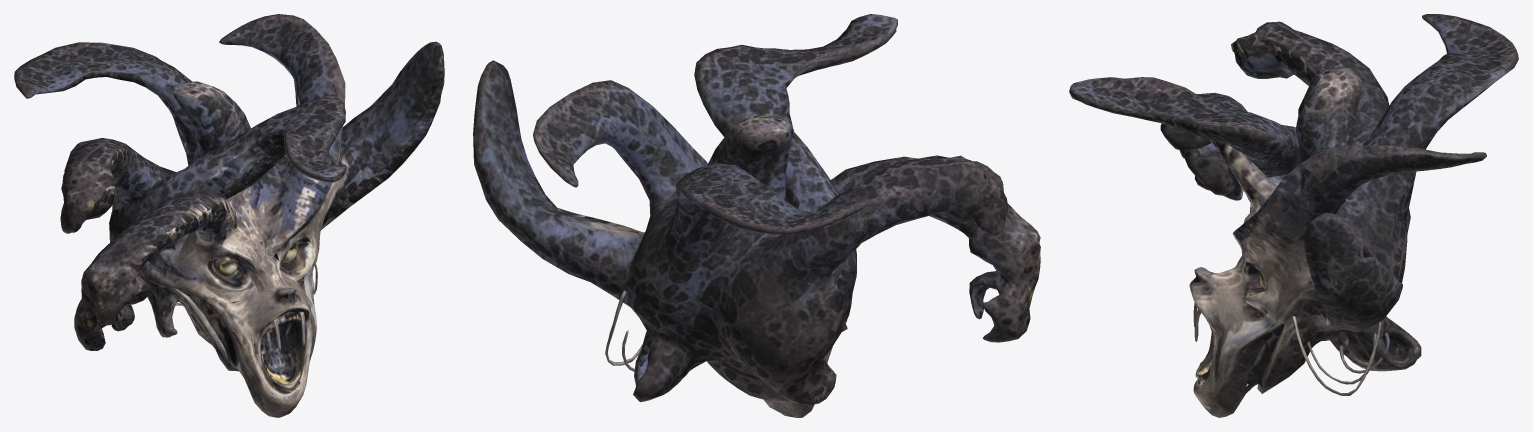
The model's file is medusa.glb.
The picture shows the model from 3 angles, left to right: view 1: azimuth 30°, elevation 25°; view 2: azimuth 150°, elevation 25°; view 3: azimuth 270°, elevation 25°; orthographic projection. The views are drawn at different scales.
Size of the model in its own units: 1 by 0.7135 by 0.8796.
1 material, 1 textured.
